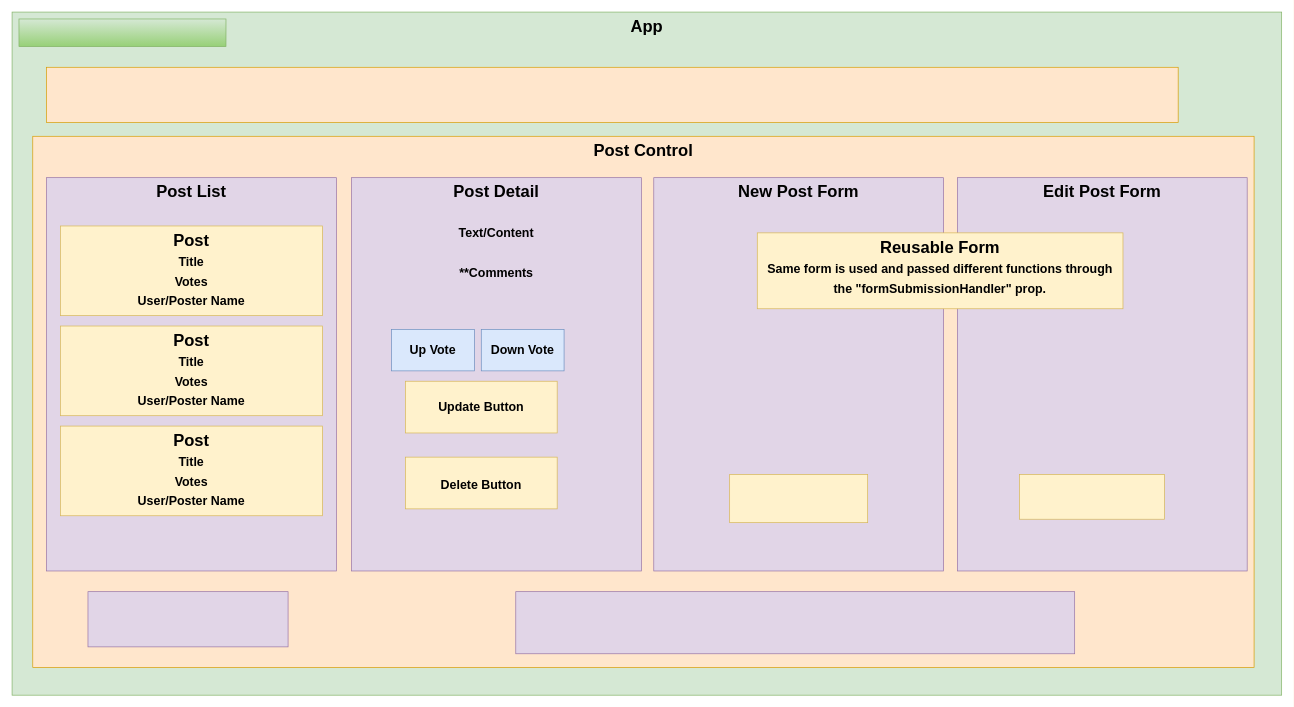
Some shapes in this 1294 by 707 pixel diagram are drawn without their labels. Here are the shapes that lost their labels. From the top down, the centre of each, then its label:
At pixel 122 32: "** = Further Exploration".
At pixel 612 94: "Header".
At pixel 798 498: "Confirm Update Button".
At pixel 1091 496: "Submit Button".
At pixel 187 619: "Add Post Button".
At pixel 795 622: "Show Post List Button".
